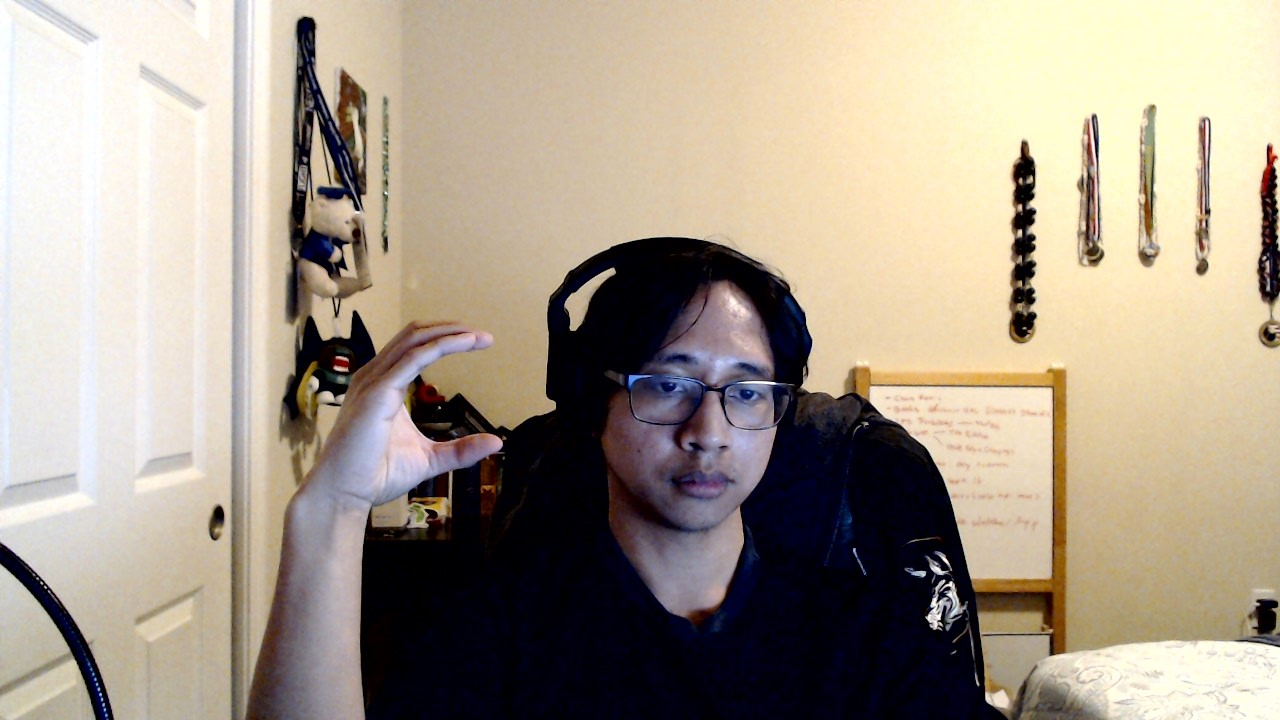c: (283, 315, 505, 516)
